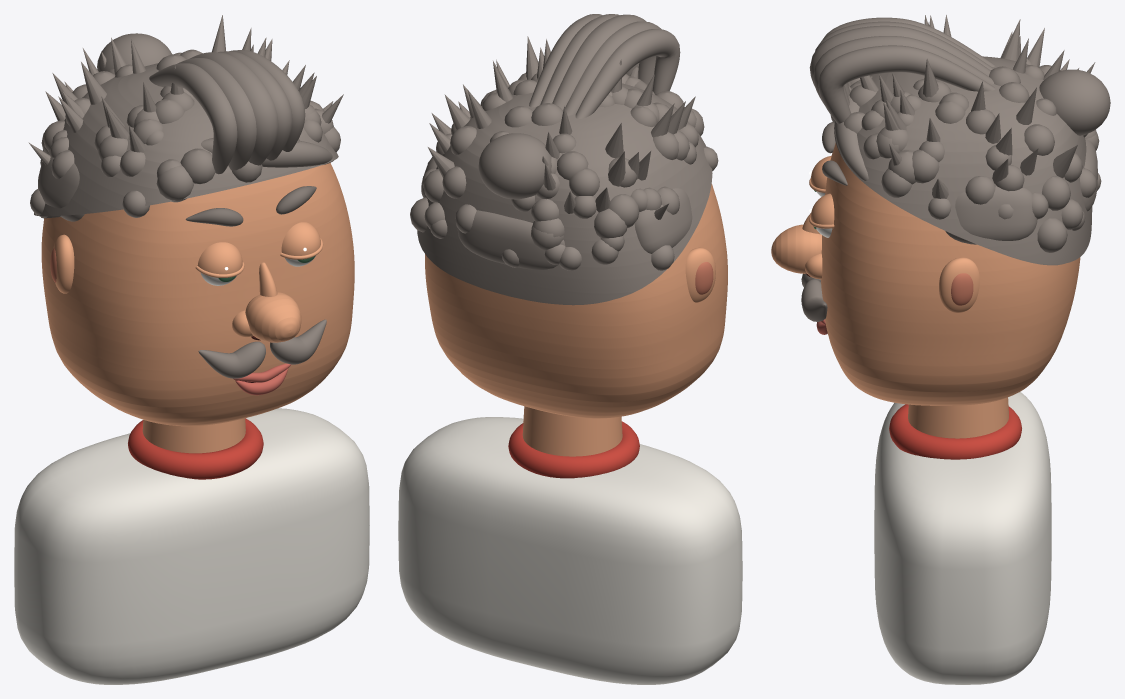
File: bakker.gltf
The picture shows the model from 3 angles, left to right: view 1: azimuth 30°, elevation 25°; view 2: azimuth 150°, elevation 25°; view 3: azimuth 270°, elevation 25°; orthographic projection. The views are drawn at different scales.
Parts seen in each view (by area): view 1: romp, hoofd, kap, sjaal, kuif 0, kuif 2, nek, kuif 1, neuspunt, ooglid (×2), kuif 3, bol (+15 smaller); view 2: romp, hoofd, kap, bol, kuif 0, nek, sjaal, achterpluk, zijpluk 0, kuif 1, kuif 2, kuif 4 (+10 smaller); view 3: romp, hoofd, kap, kuif 4, sjaal, zijpluk 1, bol, nek, kuif 3, kuif 2, neuspunt, oor 1 (+16 smaller).
Part boxes in pixels (x1,y1,x2,y2): romp: (14,408,369,684); hoofd: (41,163,354,426); kap: (34,63,338,216); sjaal: (128,418,263,479); kuif 0: (149,63,237,174); kuif 2: (189,52,278,165); nek: (142,418,245,453); kuif 1: (177,58,256,170); neuspunt: (245,292,301,342); ooglid (×2): (197,222,320,274); kuif 3: (218,51,292,160); bol: (97,33,172,71); romp: (398,417,742,684); hoofd: (425,184,727,418); kap: (417,79,712,304); bol: (478,133,551,199); kuif 0: (575,29,680,118); nek: (522,406,622,456); sjaal: (508,421,639,478); achterpluk: (457,210,565,269); zijpluk 0: (634,188,692,253); kuif 1: (565,21,661,115); kuif 2: (552,14,646,110); kuif 4: (529,14,602,107); romp: (874,392,1051,684); hoofd: (820,143,1080,405); kap: (834,56,1092,264); kuif 4: (818,45,995,123); sjaal: (889,404,1021,459); zijpluk 1: (945,185,1037,244); bol: (1039,69,1110,135); nek: (908,397,1008,438); kuif 3: (813,36,993,105); kuif 2: (809,25,990,96); neuspunt: (771,224,821,273); oor 1: (939,257,979,312).
Bounding box in the file's own units: 0.25 × 0.4514 × 0.2294.
